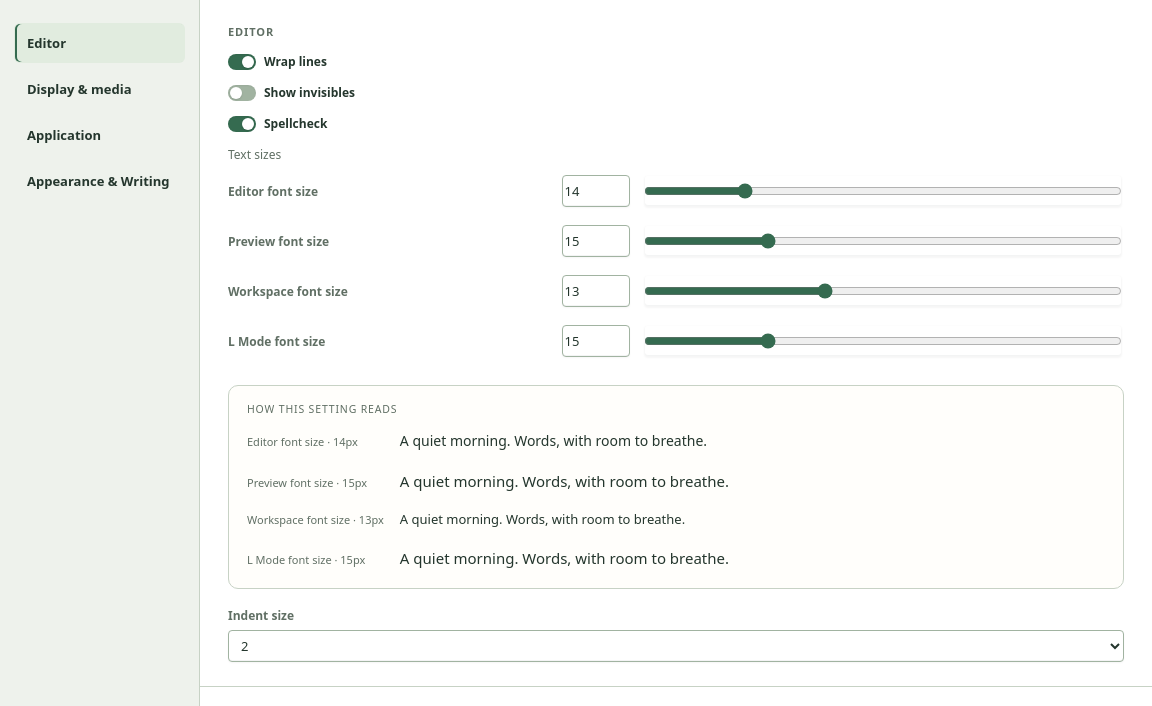
Test: clamps workspaceFontSize to its range on commit, leaving other rows alone
Step 1. Replace the text in the number field named "Workspace font size" with "999" → (596, 291), box top-left (562, 275), bottom-right (630, 307)
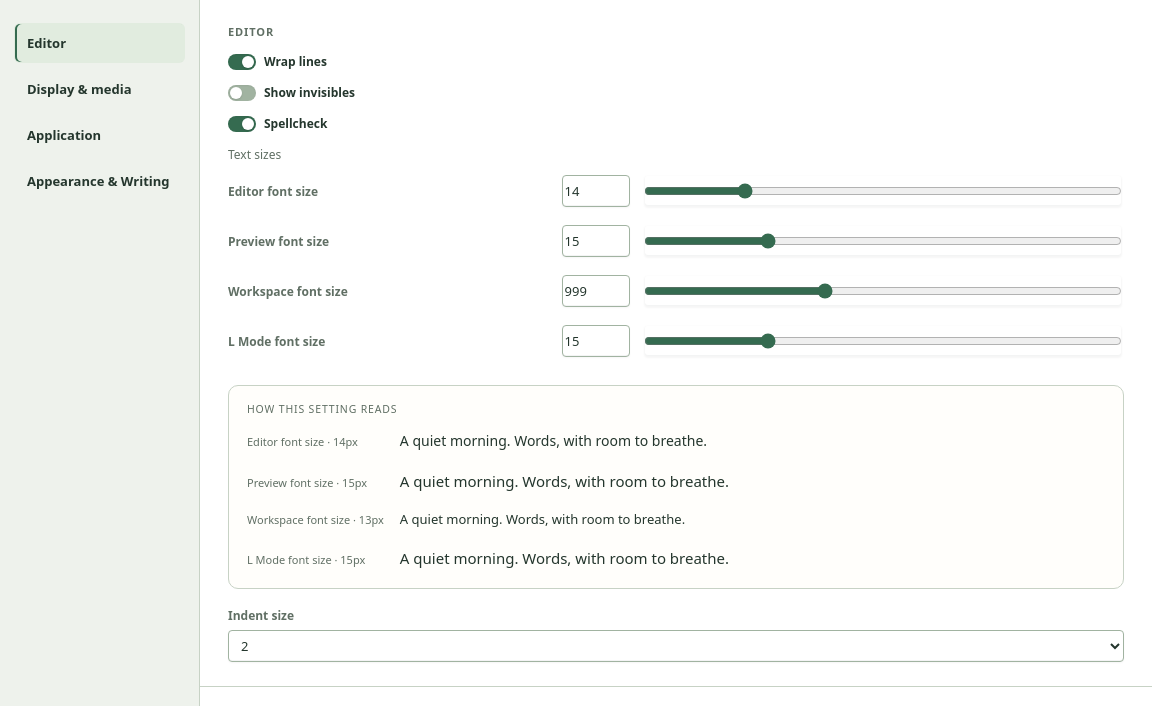
Step 2. Leave the number field named "Workspace font size", box top-left (562, 275), bottom-right (630, 307)
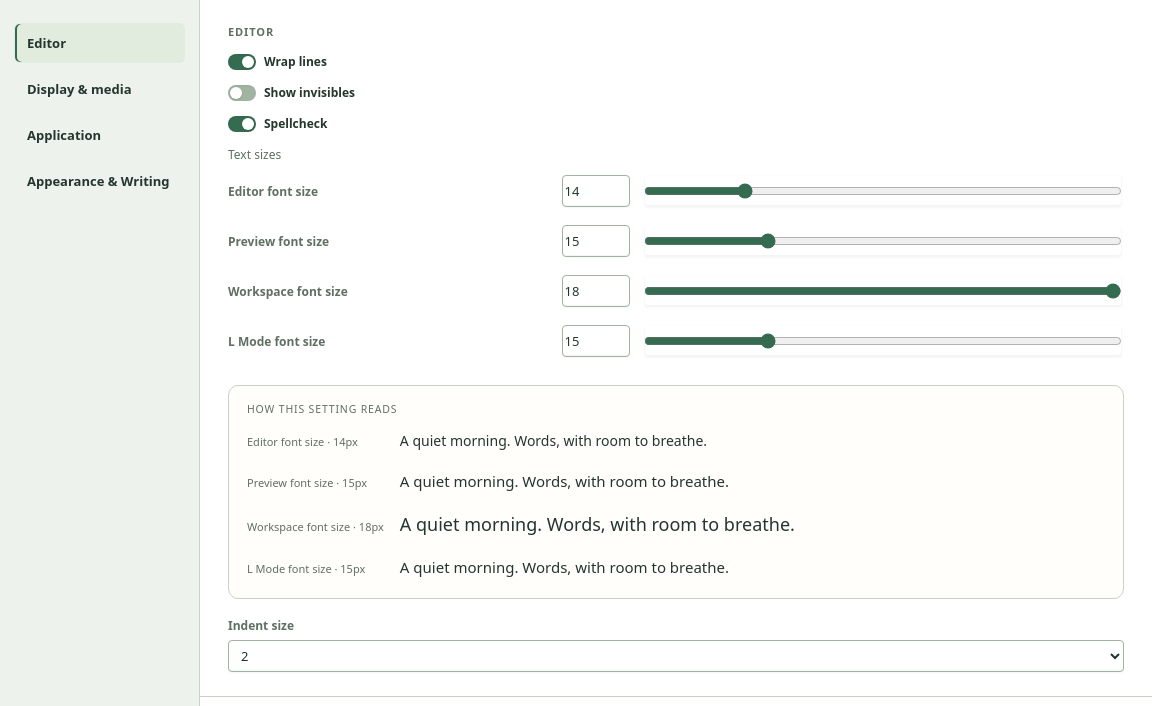
Result: the number field named "Workspace font size" holds "18"
Step 3. Replace the text in the number field named "Workspace font size" with "1" → (596, 291), box top-left (562, 275), bottom-right (630, 307)
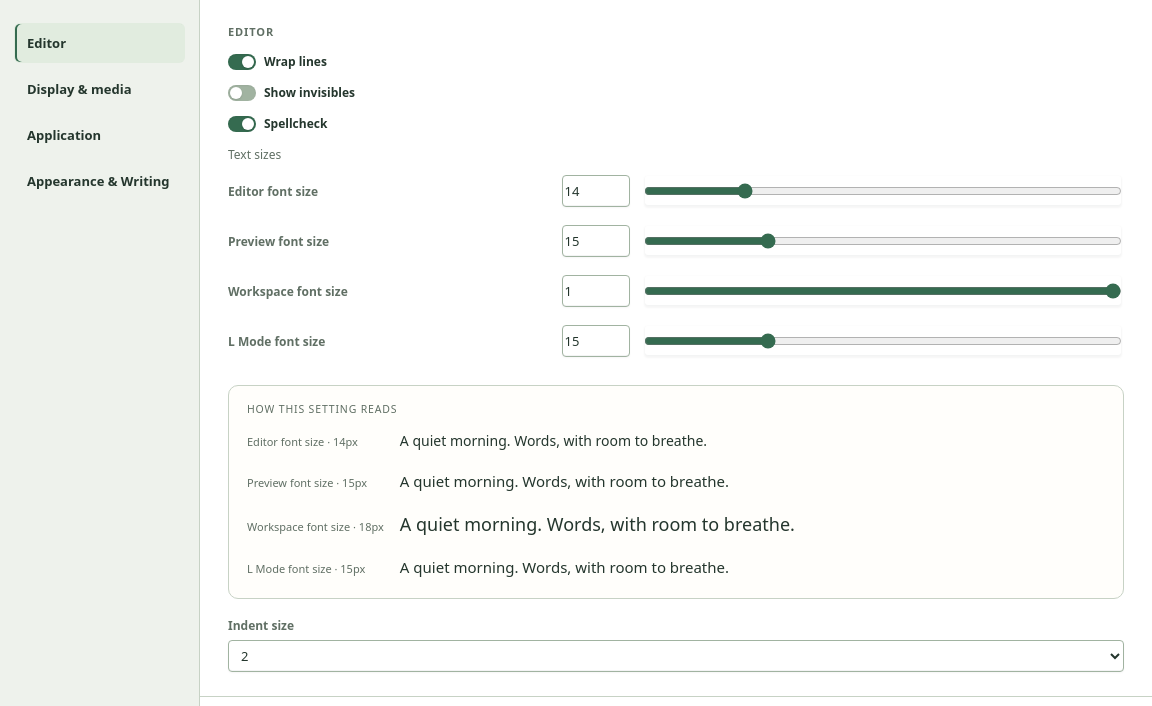
Step 4. Press Enter in the number field named "Workspace font size", box top-left (562, 275), bottom-right (630, 307)
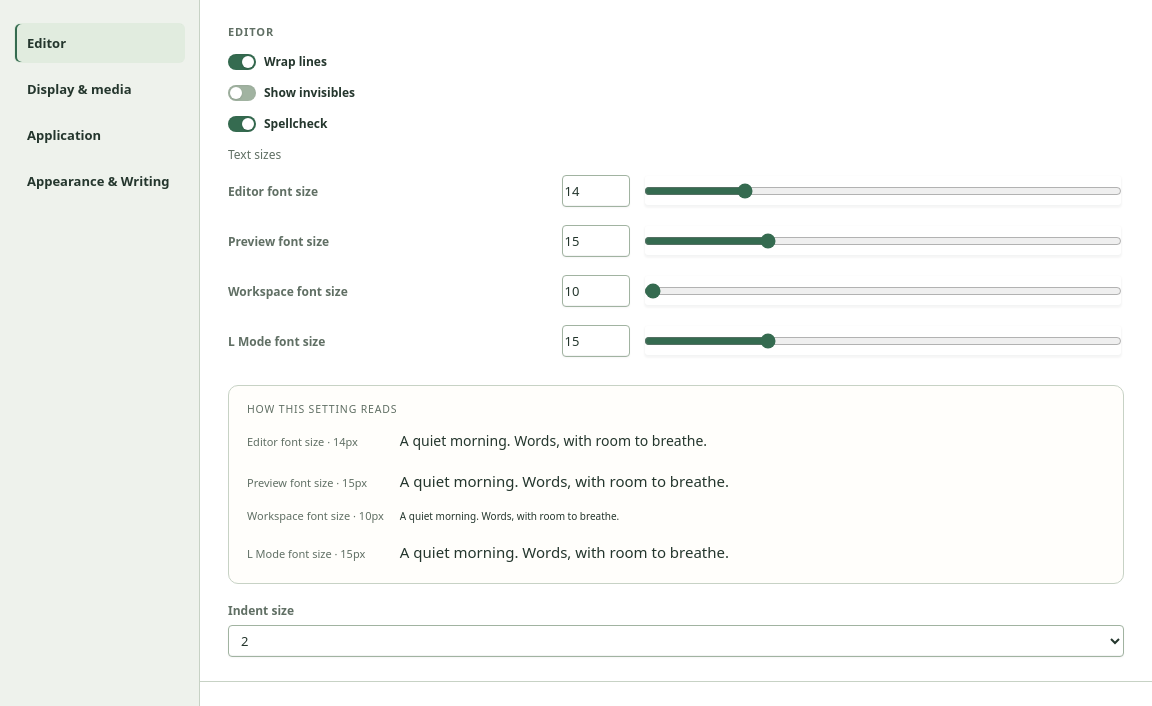
Expected: the number field named "Editor font size" holds "14", top-left (562, 175), bottom-right (630, 207)
Result: the number field named "Workspace font size" holds "10" at top-left (562, 275), bottom-right (630, 307)
